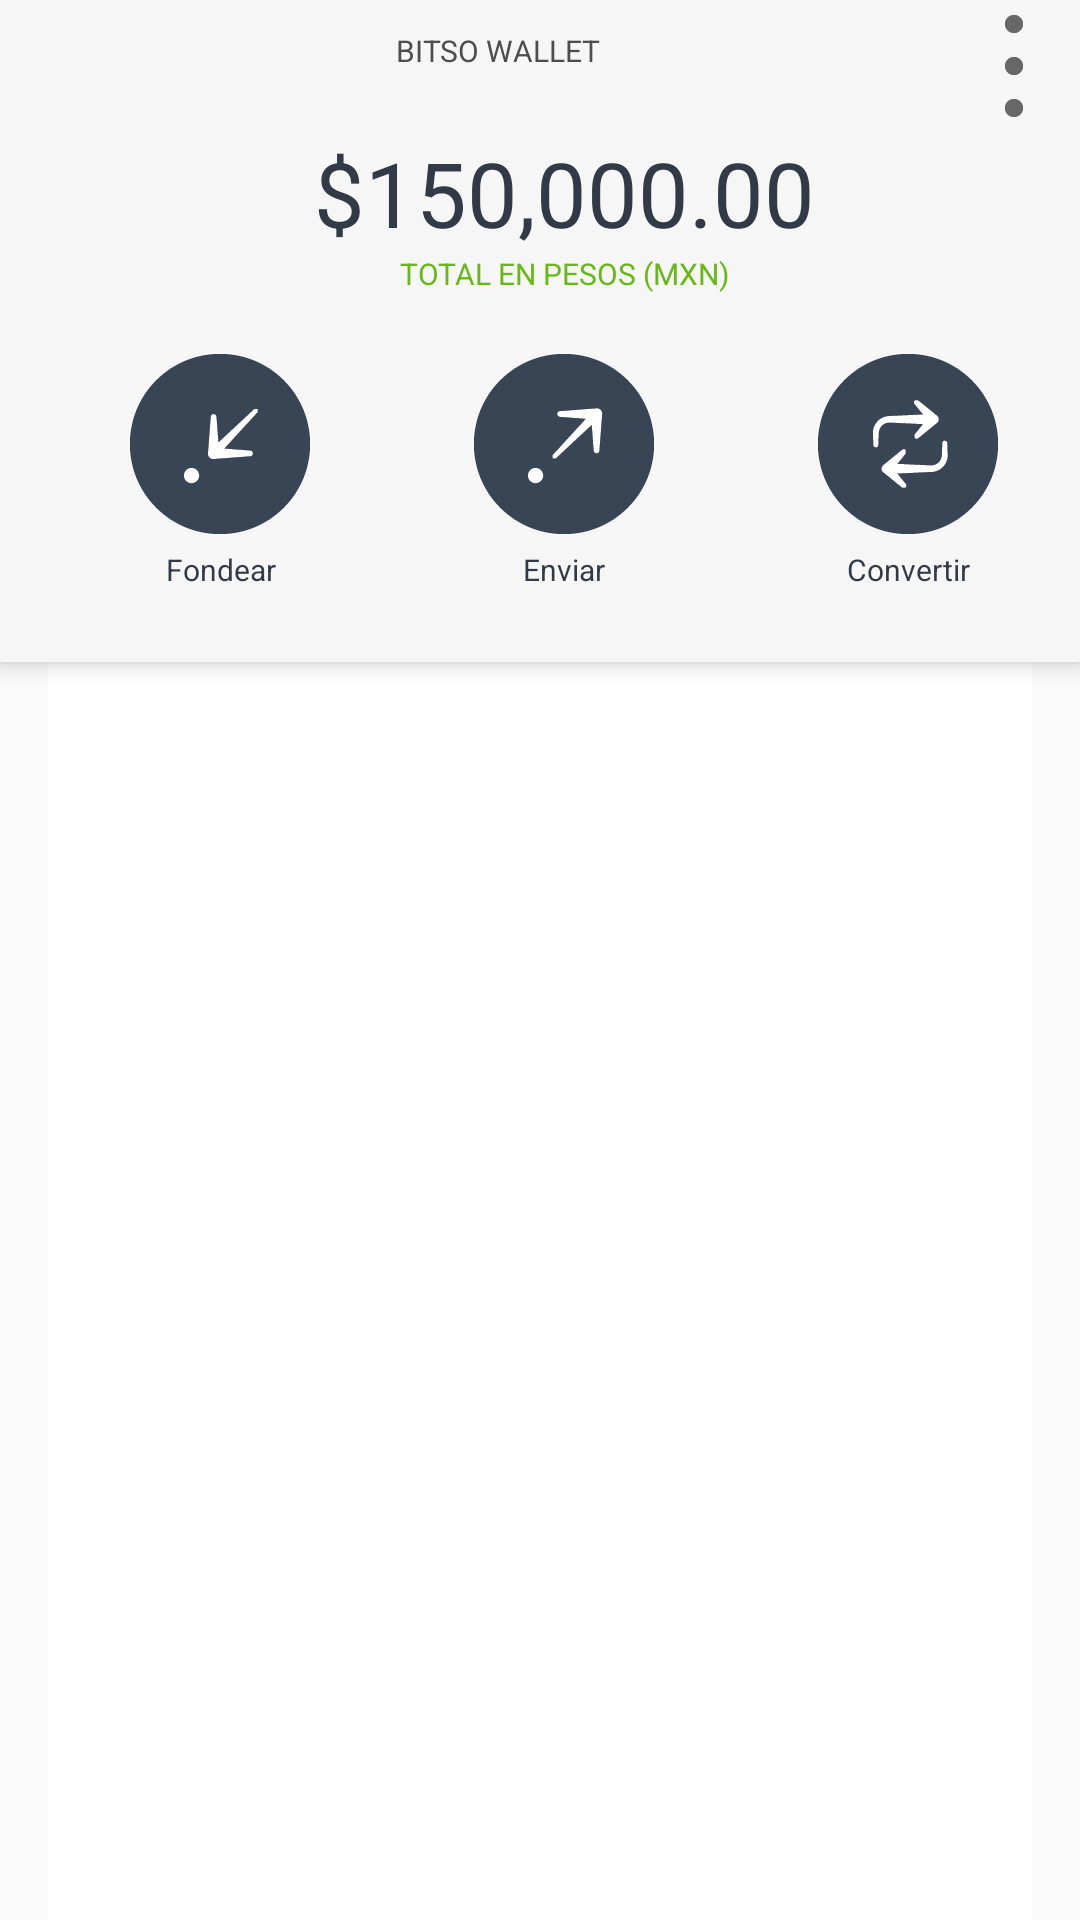

Where icons sit on this 1080px x 1920px app screen, as (x1, y1, x2, y2):
dots: (1005, 15, 1023, 117)
